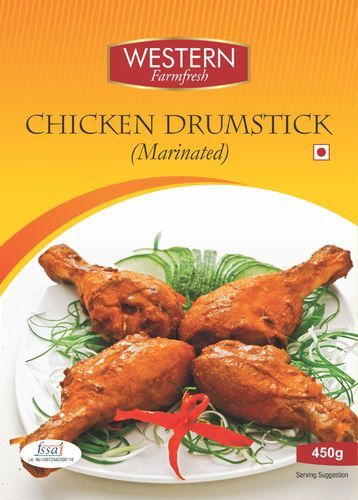nonveg_red: (311, 142, 330, 163)
